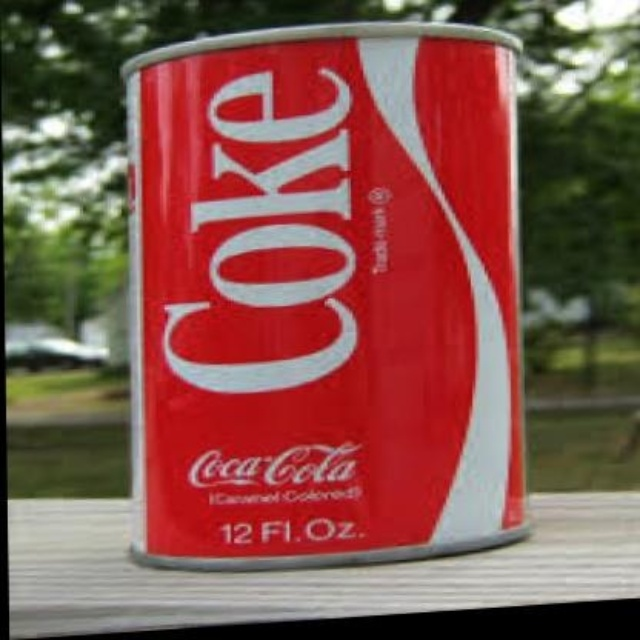trash: (123, 23, 525, 566)
